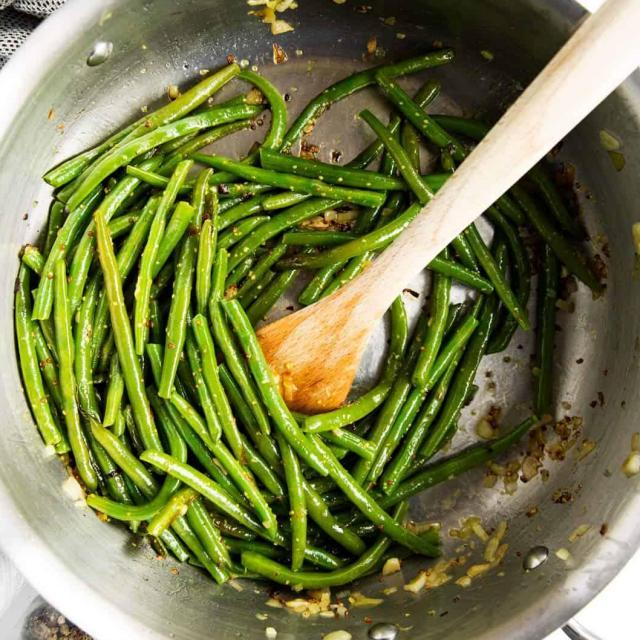Beans: (0, 47, 591, 607)
